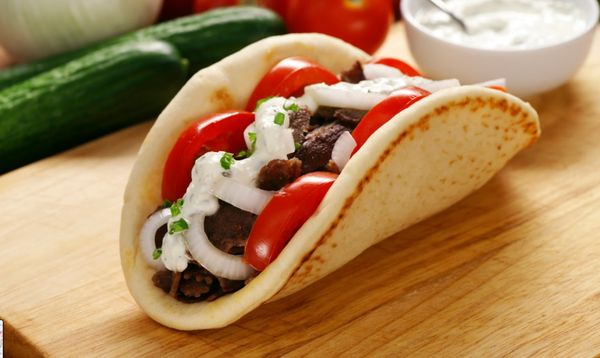sushi: (400, 0, 599, 101)
